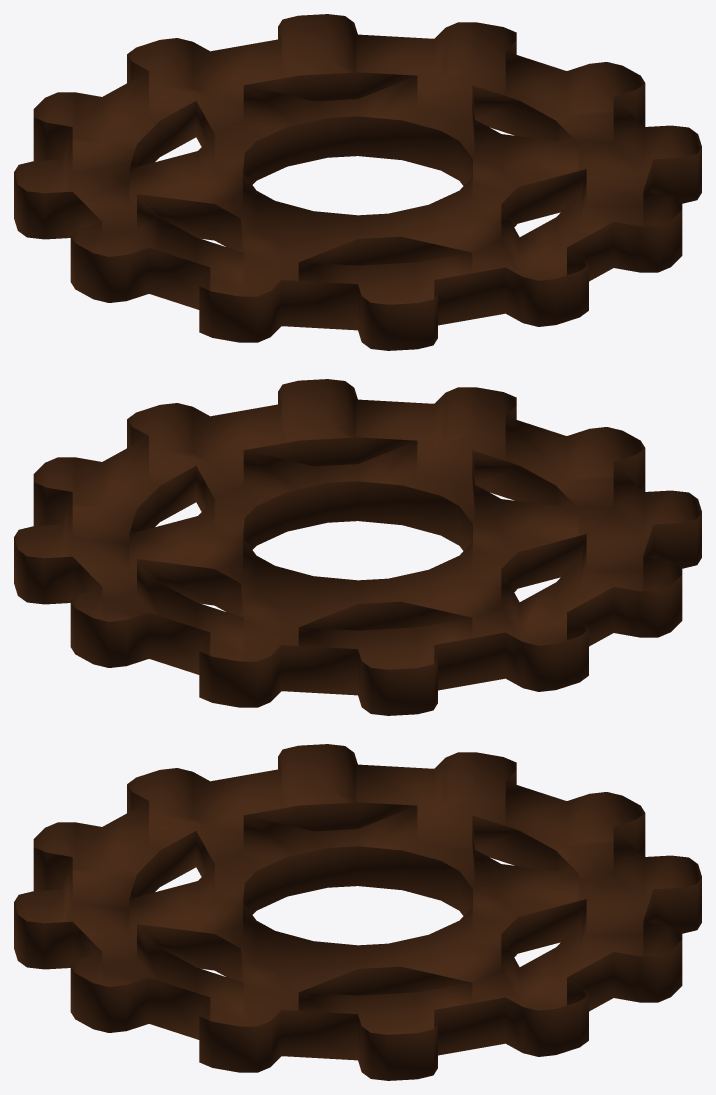
File: BossGear03.fbx
The picture shows the model from 3 angles, top to bottom: view 1: azimuth 30°, elevation 25°; view 2: azimuth 150°, elevation 25°; view 3: azimuth 270°, elevation 25°; orthographic projection.
Parts seen in each view (by area): view 1: gear2_low.004; view 2: gear2_low.004; view 3: gear2_low.004.
Boxes of the visible parts, x1,y1,x2,y2 form: gear2_low.004: [14, 14, 701, 350]; gear2_low.004: [14, 379, 701, 715]; gear2_low.004: [14, 744, 701, 1080].
Bounding box in the file's own units: 14548 × 1077 × 14548.
